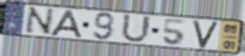5: (162, 17, 186, 47)
9: (92, 11, 118, 42)
A: (48, 10, 84, 40)
N: (22, 6, 56, 37)
U: (119, 13, 153, 45)
V: (192, 20, 220, 49)
